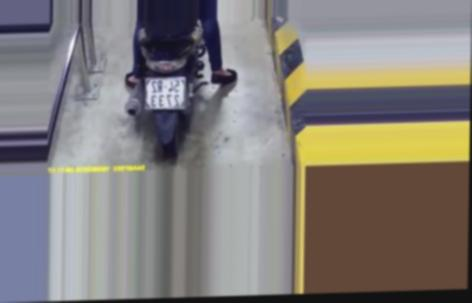License_Plate: (143, 73, 187, 114)
